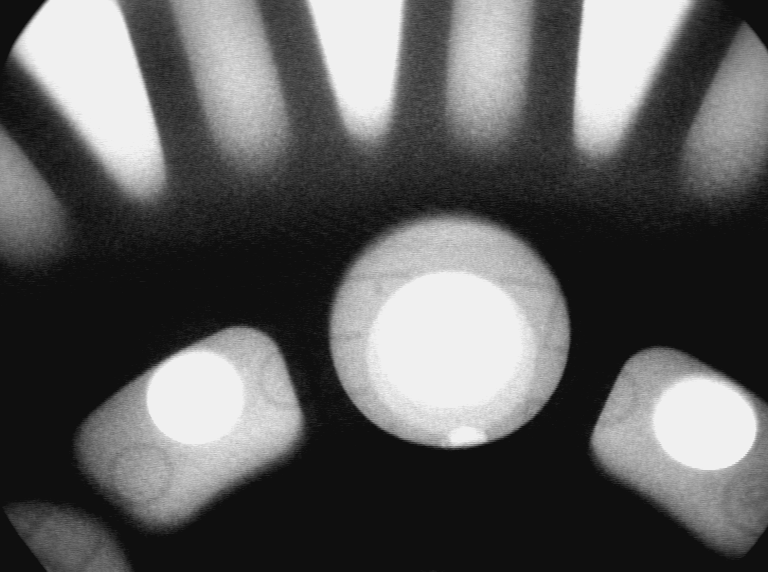defect: (448, 426, 493, 450)
